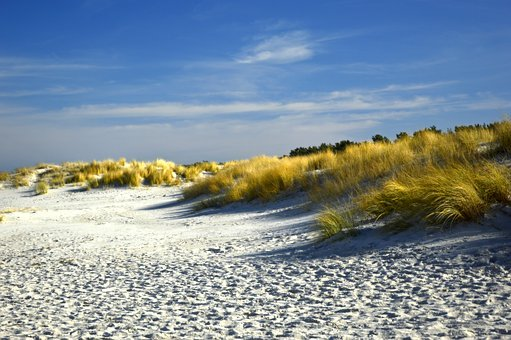field: (12, 128, 511, 238)
sky: (3, 2, 507, 148)
